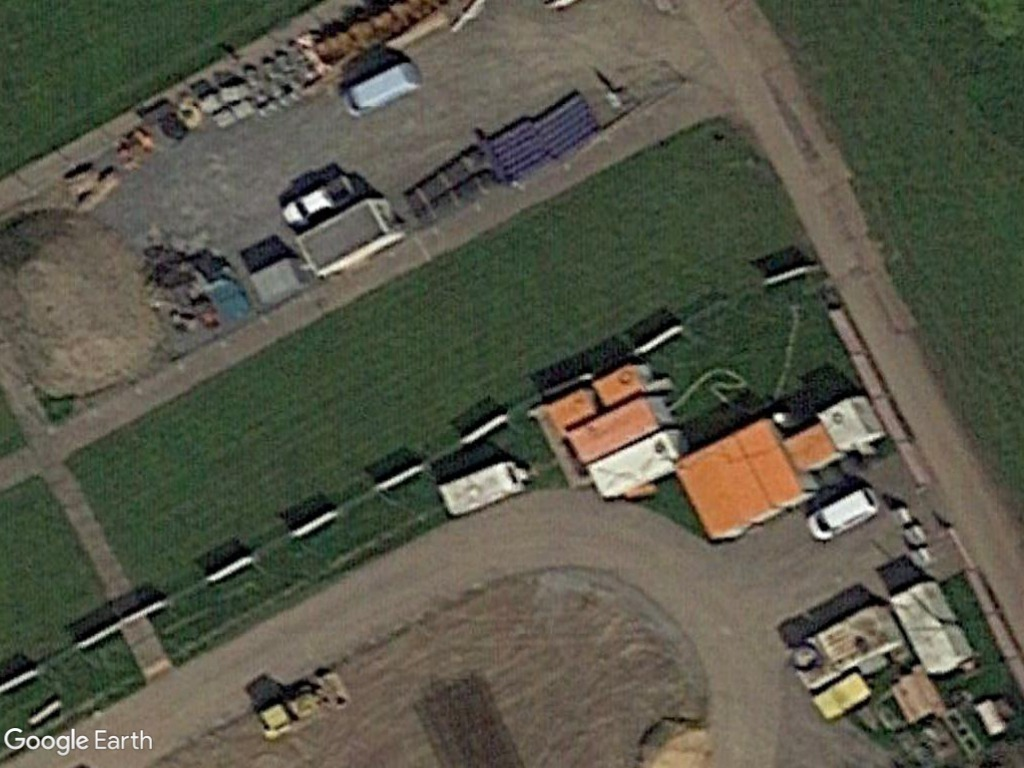van: (338, 54, 424, 121), (803, 480, 885, 544)
